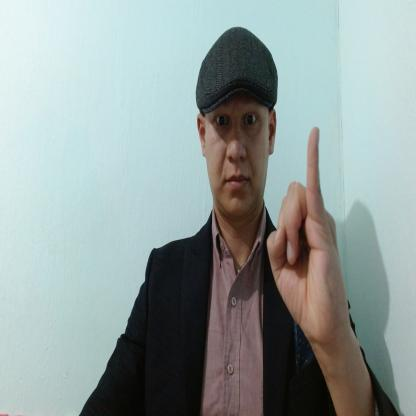I: (264, 124, 350, 342)
